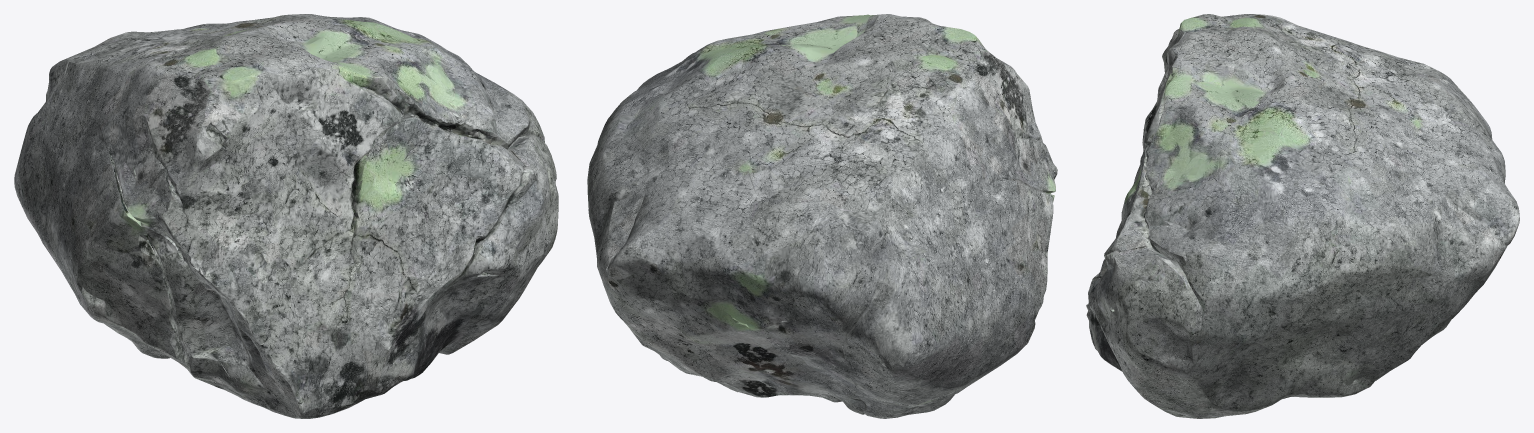
File: min4-stone-final.glb
3 renders of one model, left to right at view 1: azimuth 30°, elevation 25°; view 2: azimuth 150°, elevation 25°; view 3: azimuth 270°, elevation 25°, orthographic. The views are drawn at different scales.
Visible parts, largest first — view 1: Mesh_0; view 2: Mesh_0; view 3: Mesh_0.
Part boxes in pixels (bbox=[...]): Mesh_0: bbox=[14, 14, 558, 418]; Mesh_0: bbox=[587, 14, 1057, 418]; Mesh_0: bbox=[1086, 14, 1519, 418].
Size of the model in its own units: 0.3456 by 0.25 by 0.3207.
Materials: 1 (1 with a texture image).
